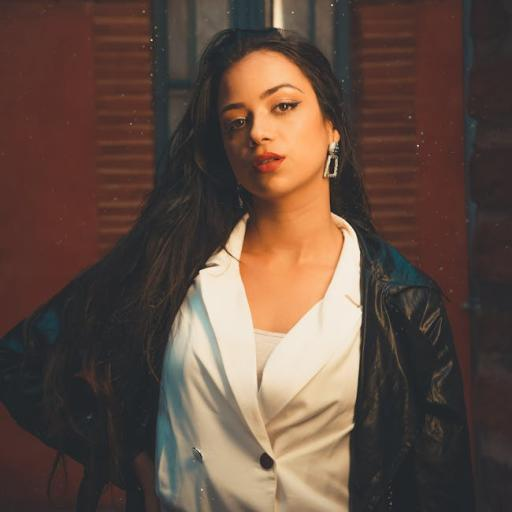lipstick: (253, 153, 284, 173)
